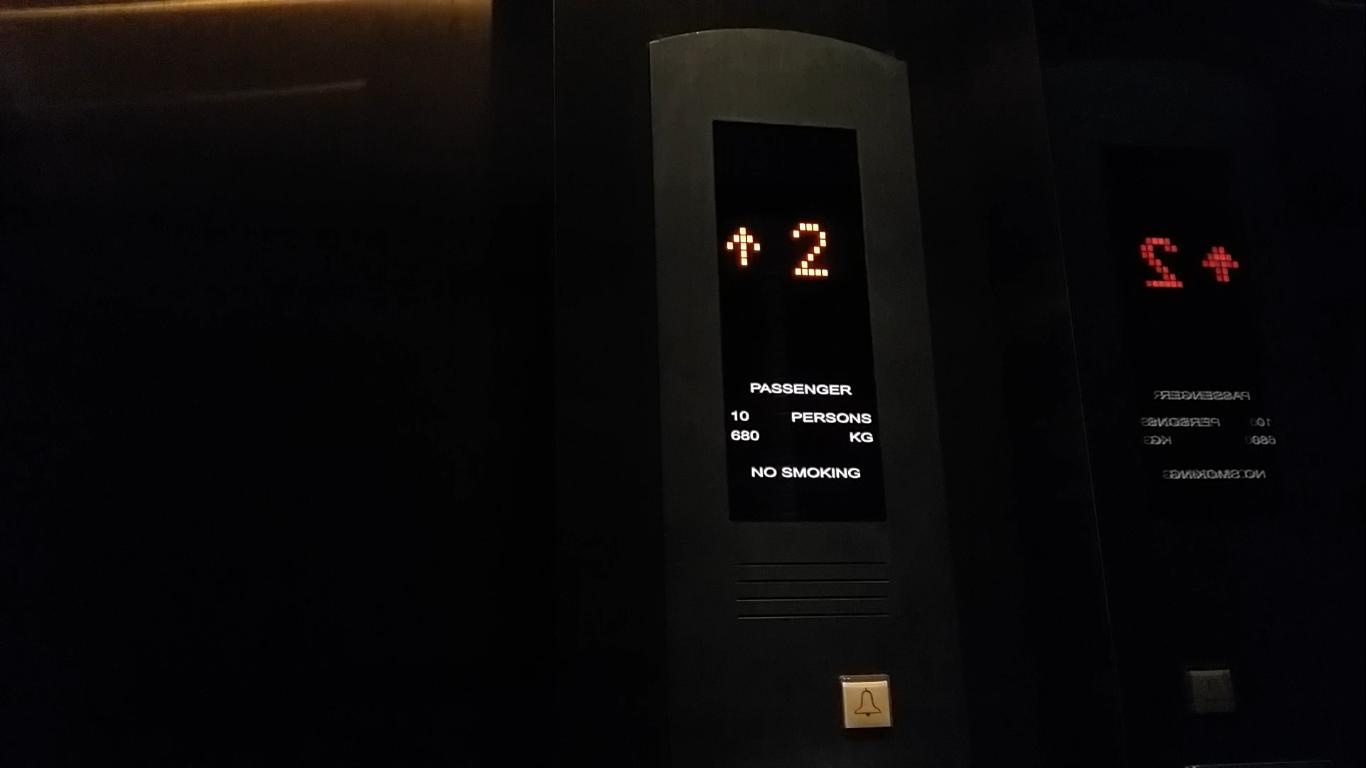alarm: (838, 669, 893, 733), (1182, 667, 1237, 720)
led: (708, 117, 893, 524), (1106, 191, 1292, 509)
